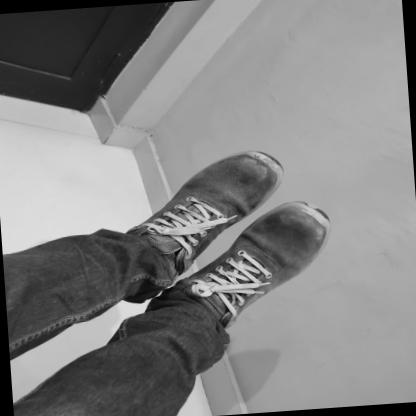ankle: (209, 301, 213, 305), (160, 239, 164, 241)
heel: (129, 232, 133, 234), (179, 283, 182, 285)
left_foot: (121, 150, 291, 280)
pinky: (223, 164, 227, 166), (318, 248, 321, 250)
right_foot: (172, 200, 339, 333)
toe: (273, 180, 276, 182), (288, 207, 291, 209)
